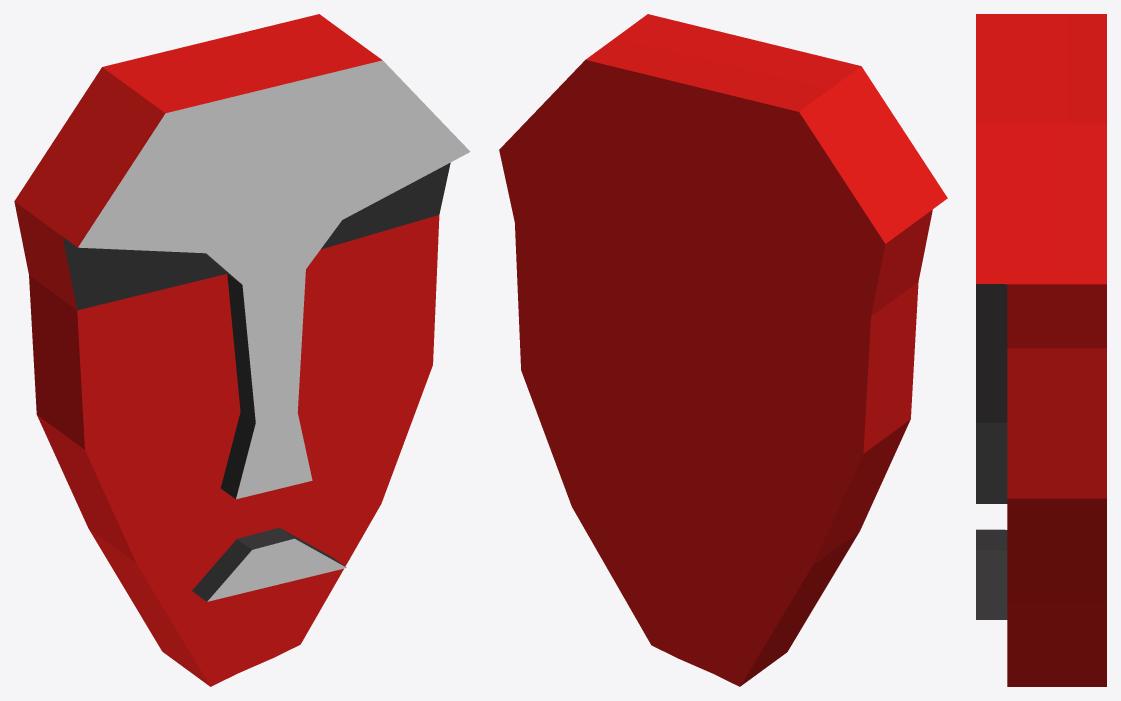
File: maskk222.fbx
3 views of the same model, side by side, from view 1: azimuth 30°, elevation 25°; view 2: azimuth 150°, elevation 25°; view 3: azimuth 270°, elevation 25° (orthographic). The views are drawn at different scales.
Visible parts, largest first — view 1: maske; view 2: maske; view 3: maske.
Part boxes in pixels (left/top/right/bottom): maske: left=14, top=14, right=470, bottom=686; maske: left=499, top=14, right=947, bottom=686; maske: left=976, top=14, right=1106, bottom=686.
Bounding box in the file's own units: 392 × 572 × 110.
